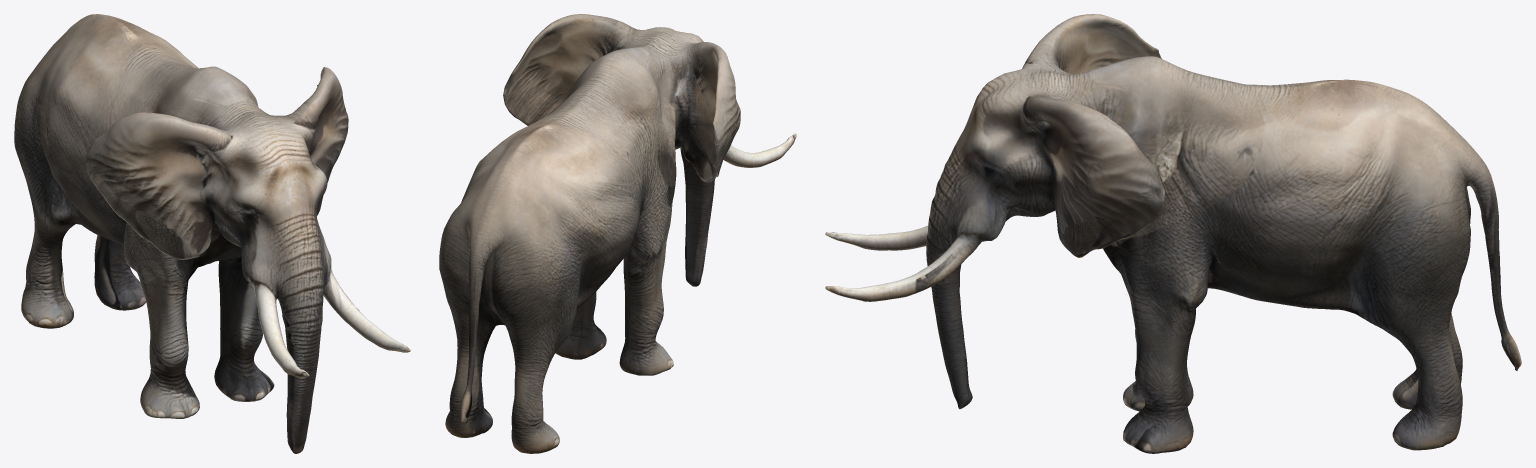
Rendered from ultra_realistic_elephant.glb.
3 views of the same model, side by side, from view 1: azimuth 30°, elevation 25°; view 2: azimuth 150°, elevation 25°; view 3: azimuth 270°, elevation 25° (orthographic). The views are drawn at different scales.
Visible parts, largest first — view 1: Mesh1_Mesh1.001; view 2: Mesh1_Mesh1.001; view 3: Mesh1_Mesh1.001.
Boxes of the visible parts, x1,y1,x2,y2 form: Mesh1_Mesh1.001: [14, 14, 410, 453]; Mesh1_Mesh1.001: [439, 14, 796, 453]; Mesh1_Mesh1.001: [825, 14, 1521, 453].
Bounding box in the file's own units: 0.8566 × 1.15 × 1.99.
1 material, 1 textured.
